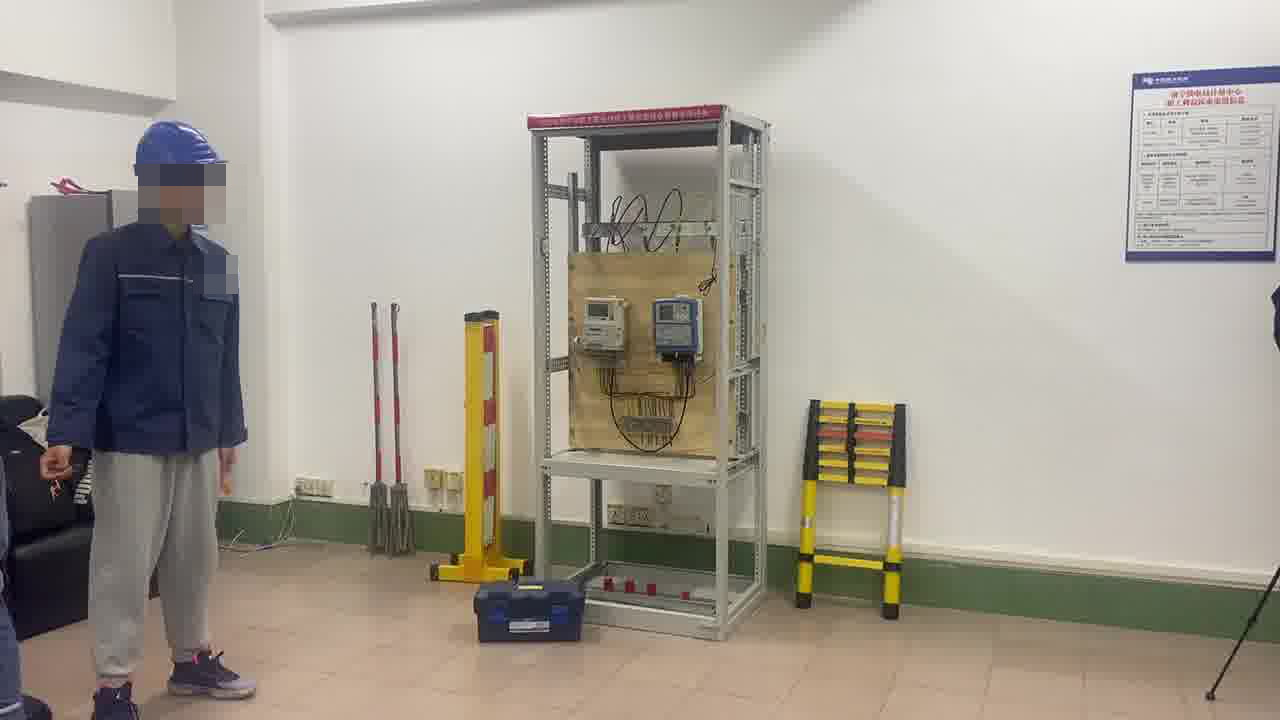downcloth: (79, 462, 225, 680)
halt: (133, 118, 226, 231)
hand: (37, 446, 73, 480)
person: (33, 115, 252, 699)
upsuit: (48, 219, 248, 456)
